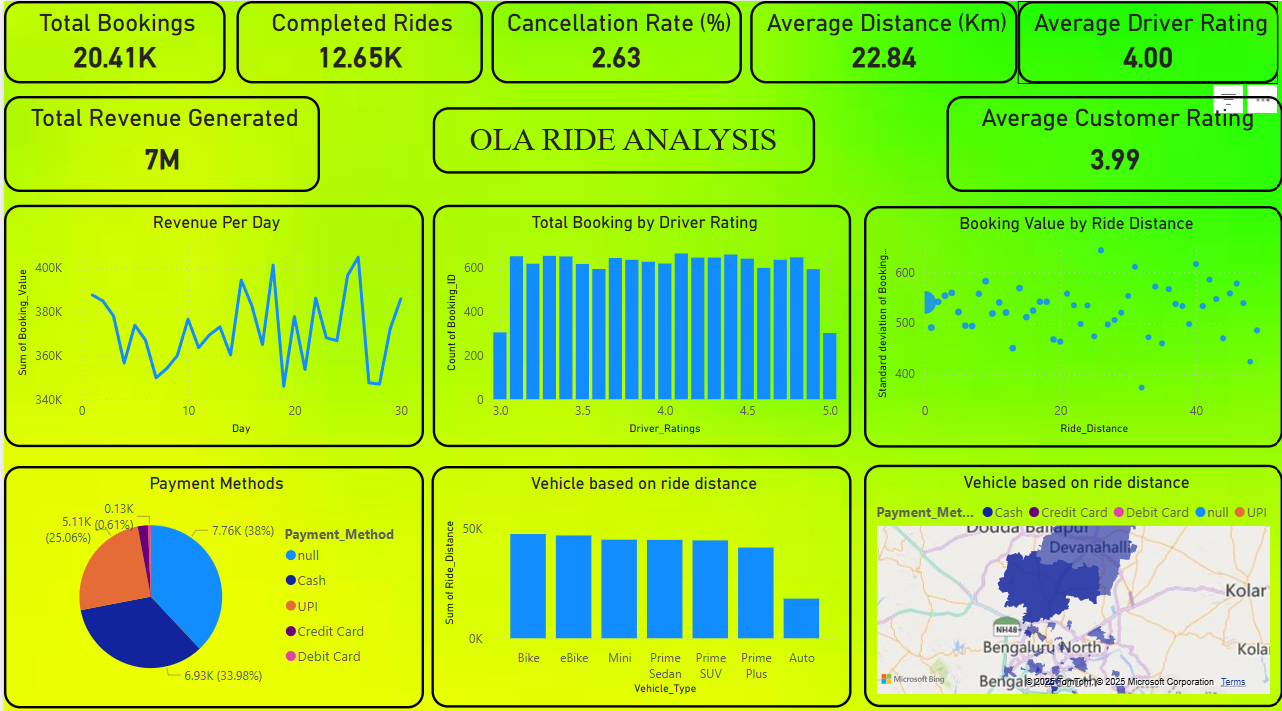

The page's visual inventory and layout, read from the dashboard file:
{"tool":"powerbi","page":{"name":"Page 1","canvas":[1280,720],"ordinal":0},"visuals":[{"type":"card","title":"Total  Bookings","fields":{"Values":["CountNonNull(OLA_DATASET.Booking_ID)"]},"box":[0,0,221.2,82.5],"z":0},{"type":"card","title":"Completed Rides","fields":{"Values":["CountNonNull(OLA_DATASET.Booking_Status)"]},"box":[232.5,0,246.2,82.5],"z":1000},{"type":"card","title":"Cancellation Rate (%)","fields":{"Values":["OLA_DATASET.Count of Booking_ID divided by Cancellation"]},"box":[487.5,0,250,82.5],"z":2000},{"type":"card","title":"Average Distance (Km)","fields":{"Values":["Avg(OLA_DATASET.Ride_Distance)"]},"box":[746.2,0,267.5,82.5],"z":3000},{"type":"card","title":"Total Revenue Generated","fields":{"Values":["Sum(OLA_DATASET.Booking_Value)"]},"box":[0,95,316.2,96.2],"z":4000},{"type":"card","title":"Average Driver Rating","fields":{"Values":["Avg(OLA_DATASET.Driver_Ratings)"]},"box":[1013.8,0,261.2,82.5],"z":5000},{"type":"card","title":"Average Customer Rating","fields":{"Values":["Avg(OLA_DATASET.Customer_Rating)"]},"box":[942.5,95,337.5,96.2],"z":6000},{"type":"lineChart","title":"Revenue Per Day","fields":{"Category":["OLA_DATASET.Date.Variation.Date Hierarchy.Day"],"Y":["Sum(OLA_DATASET.Booking_Value)"]},"box":[0,203.8,420,242.5],"z":7000},{"type":"columnChart","title":"Total Booking by Driver Rating","fields":{"Category":["OLA_DATASET.Driver_Ratings"],"Y":["CountNonNull(OLA_DATASET.Booking_ID)"]},"box":[428.8,203.8,418.8,242.5],"z":8000},{"type":"pieChart","title":"Payment Methods","fields":{"Y":["CountNonNull(OLA_DATASET.Booking_ID)"],"Category":["OLA_DATASET.Payment_Method"]},"box":[0,465,420,242.5],"z":9000},{"type":"columnChart","title":"Vehicle based on ride distance","fields":{"Category":["OLA_DATASET.Vehicle_Type"],"Y":["Sum(OLA_DATASET.Ride_Distance)"]},"box":[427.5,465,420,241.2],"z":10000},{"type":"scatterChart","title":"Booking Value by Ride Distance","fields":{"X":["OLA_DATASET.Ride_Distance"],"Y":["Sum(OLA_DATASET.Booking_Value)"],"Size":["Count(OLA_DATASET.Booking_ID)"]},"box":[860,205,420,241.2],"z":11000},{"type":"filledMap","title":"Vehicle based on ride distance","fields":{"Category":["OLA_DATASET.Pickup_Location"],"Series":["OLA_DATASET.Payment_Method"]},"box":[860,463.8,420,242.5],"z":12000},{"type":"textbox","box":[428.8,106.2,382.5,66.2],"z":13000}]}

Visuals, with their boxes in screenshot pixels (x1, y1, x2, y2), scaled from the page's 1280x720 canvas onto the 1282x711 screenshot:
"Total  Bookings" card: <region>0, 0, 222, 81</region>
"Completed Rides" card: <region>233, 0, 479, 81</region>
"Cancellation Rate (%)" card: <region>488, 0, 739, 81</region>
"Average Distance (Km)" card: <region>747, 0, 1015, 81</region>
"Total Revenue Generated" card: <region>0, 94, 317, 189</region>
"Average Driver Rating" card: <region>1015, 0, 1277, 81</region>
"Average Customer Rating" card: <region>944, 94, 1281, 189</region>
"Revenue Per Day" lineChart: <region>0, 201, 421, 441</region>
"Total Booking by Driver Rating" columnChart: <region>429, 201, 849, 441</region>
"Payment Methods" pieChart: <region>0, 459, 421, 699</region>
"Vehicle based on ride distance" columnChart: <region>428, 459, 849, 697</region>
"Booking Value by Ride Distance" scatterChart: <region>861, 202, 1281, 441</region>
"Vehicle based on ride distance" filledMap: <region>861, 458, 1281, 697</region>
textbox: <region>429, 105, 813, 170</region>
